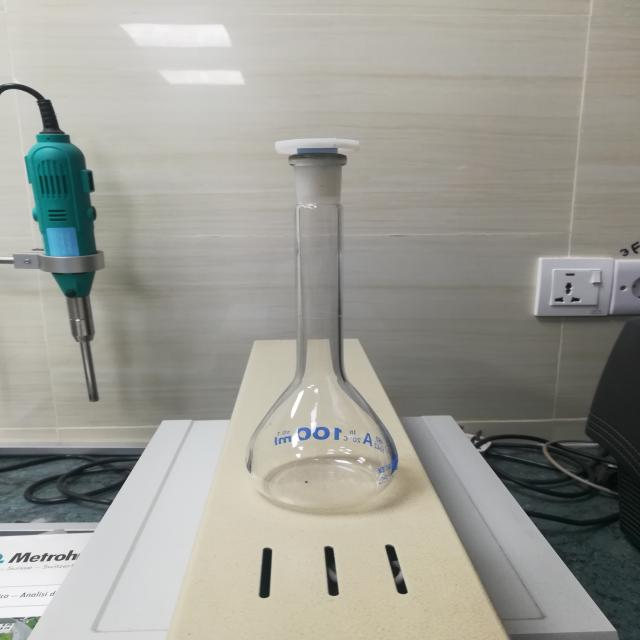Volumetric_Flask: (224, 110, 444, 523)
